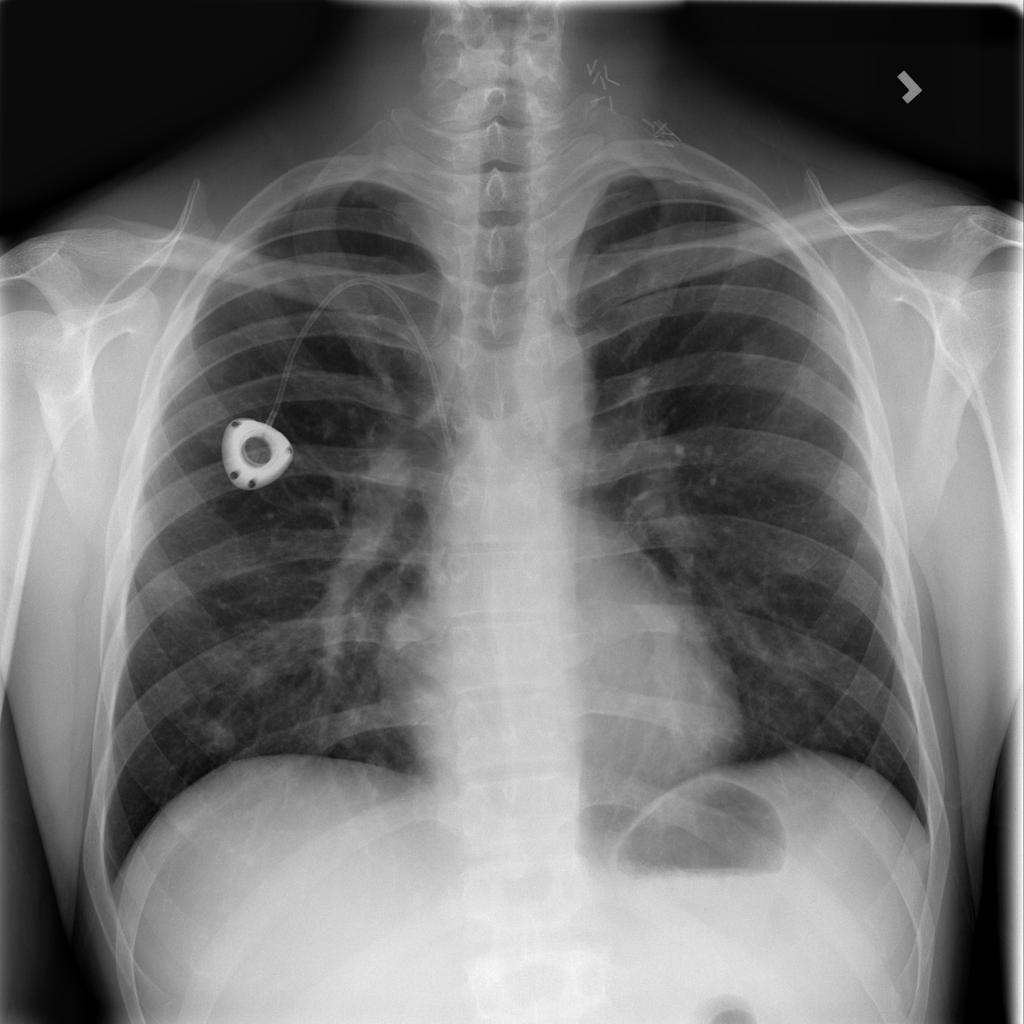nodule: (181, 694, 255, 767), (722, 313, 788, 388)
